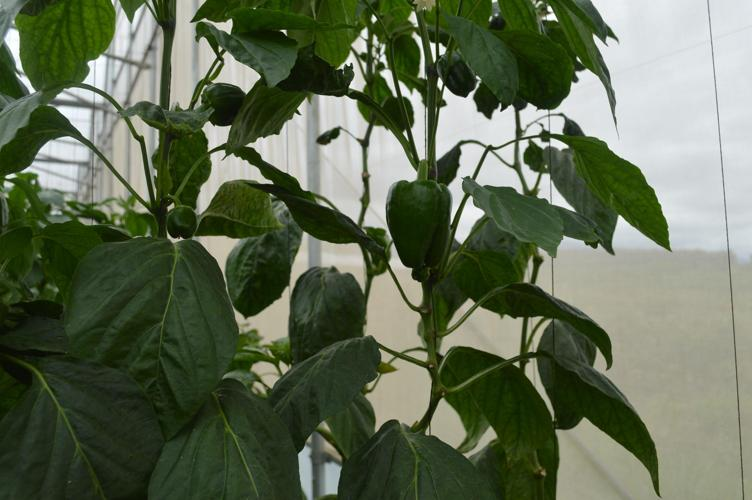BellPepper: (382, 171, 463, 280), (195, 80, 250, 133), (162, 201, 211, 243)
